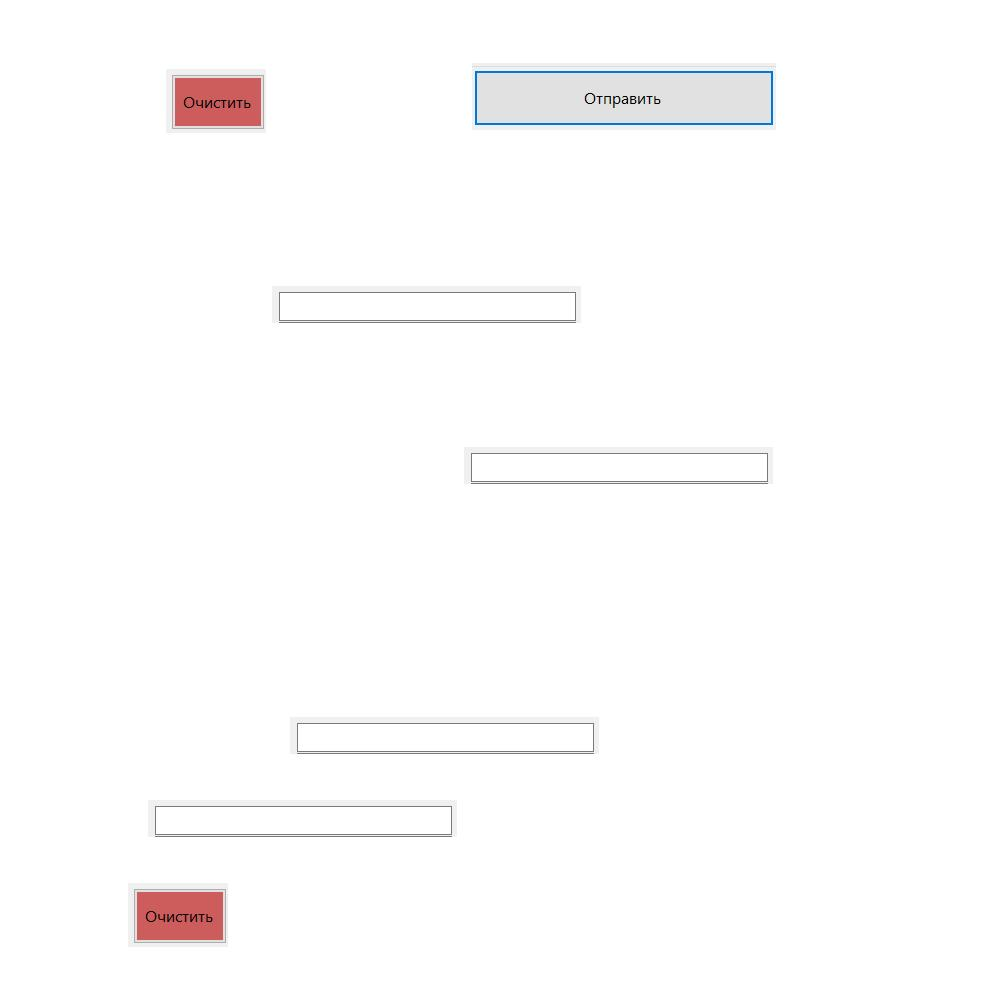Button: (472, 63, 776, 130), (166, 69, 266, 133), (128, 883, 228, 947)
EditText-: (272, 286, 581, 323), (464, 447, 773, 484), (148, 800, 457, 837), (290, 717, 599, 754)
